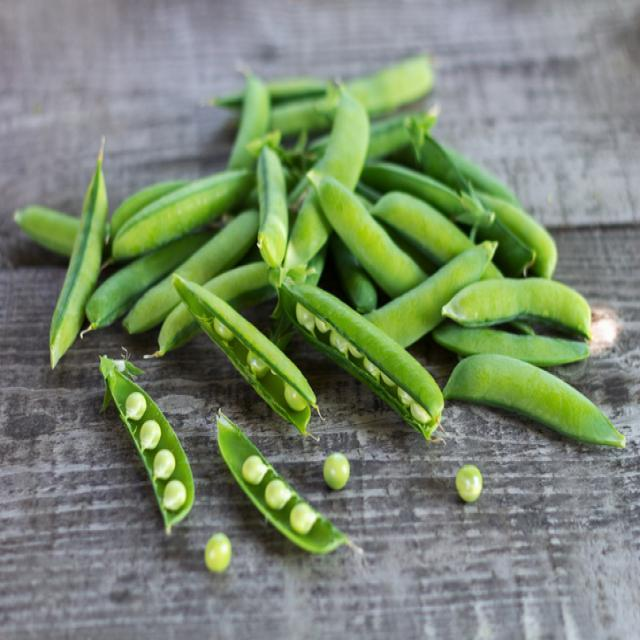Peas: (205, 528, 235, 578), (326, 449, 350, 495), (455, 466, 479, 505)
